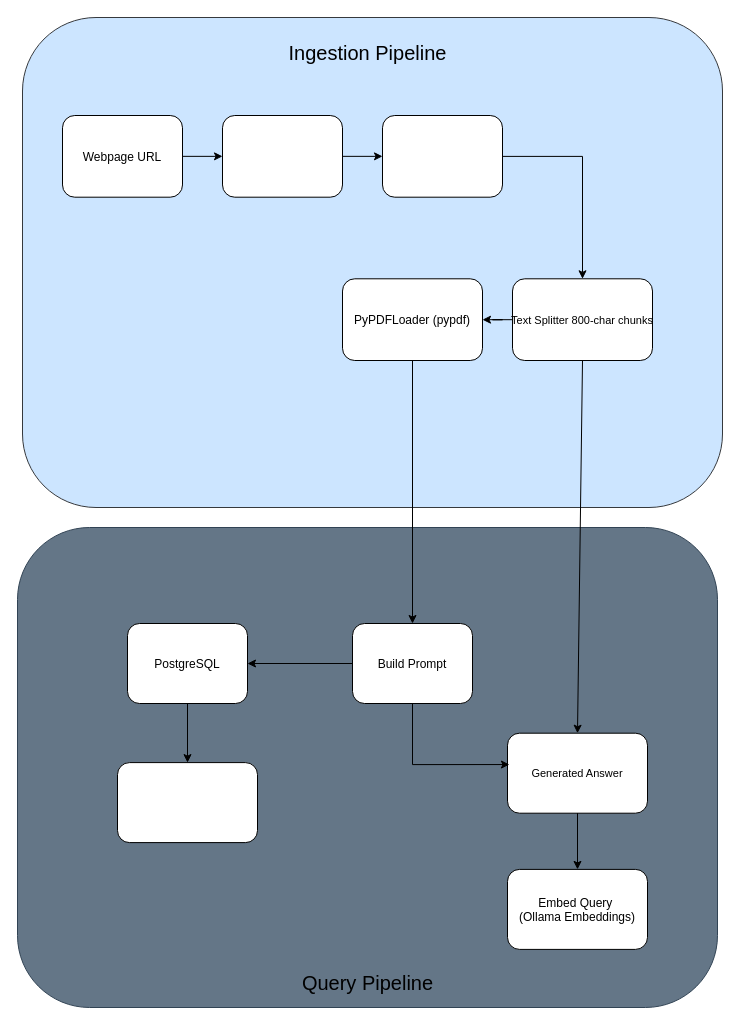
The diagram is 740 pixels wide and 1025 high, and some of its shapes have lost their labels. The shapes that lost their labels are listed below. From the top down, each one's centre as x and y in pixels, then its label:
point 282,155: Scrape PDFs
point 442,155: PDF Download
point 187,802: User Query
